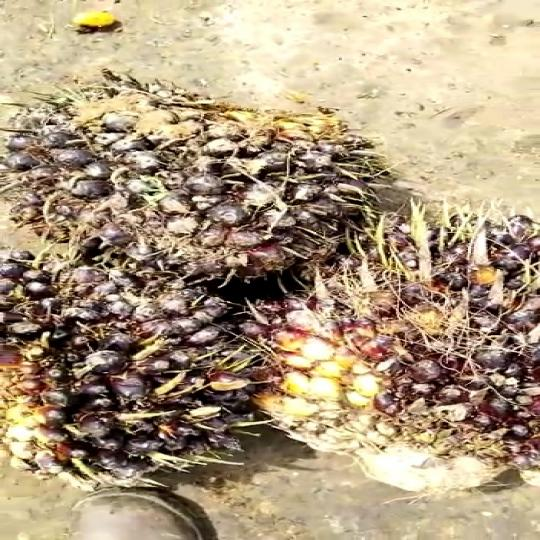mentah: (227, 205, 540, 502), (10, 76, 340, 284), (0, 265, 301, 486)
